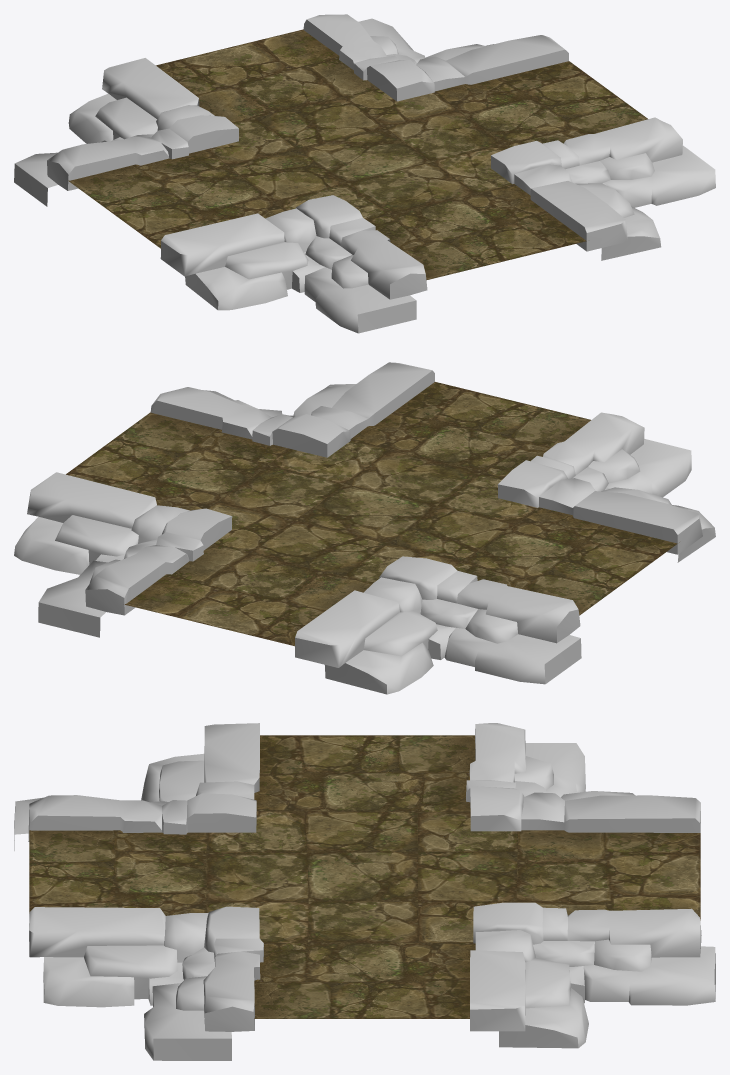
The model's file is Road_Crossing_01.fbx.
The picture shows the model from 3 angles, top to bottom: view 1: azimuth 30°, elevation 25°; view 2: azimuth 150°, elevation 25°; view 3: azimuth 270°, elevation 25°; orthographic projection. The views are drawn at different scales.
Parts seen in each view (by area): view 1: Road_Crossing_01_LOD0; view 2: Road_Crossing_01_LOD0; view 3: Road_Crossing_01_LOD0.
Part boxes in pixels (x1,y1,x2,y2): Road_Crossing_01_LOD0: (14, 14, 715, 333); Road_Crossing_01_LOD0: (14, 362, 715, 694); Road_Crossing_01_LOD0: (14, 723, 715, 1060).
Size of what is drawn, in the model's own units: 6.27 by 0.5389 by 6.27.
